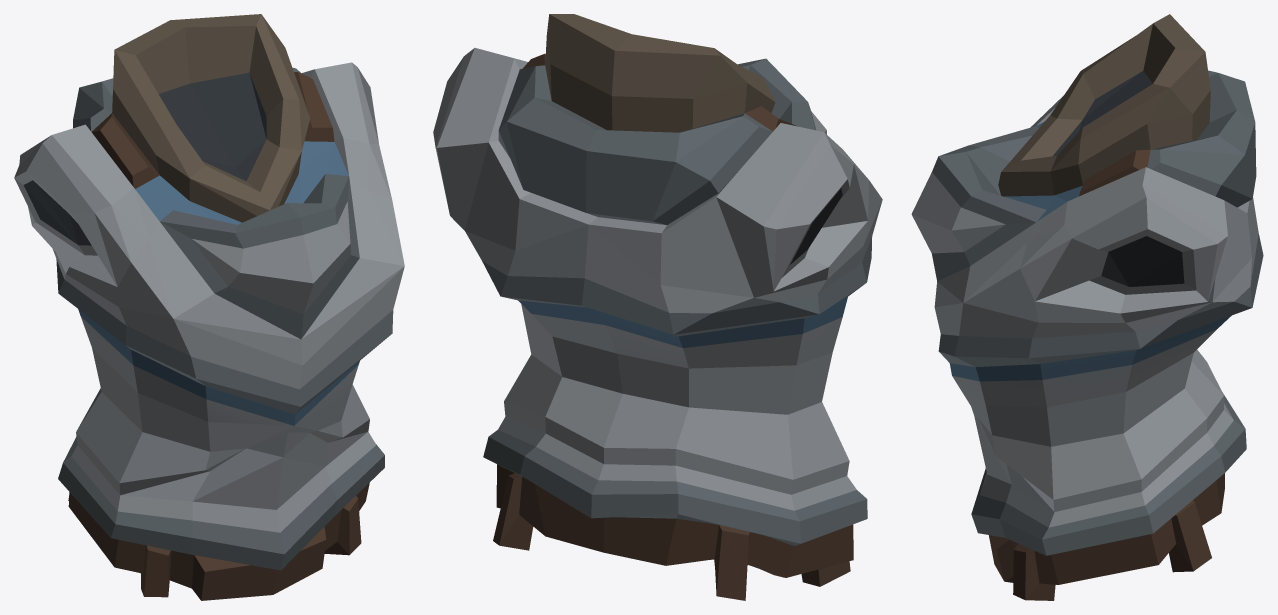
The model's file is Chr_Torso_Female_25_Static.fbx.
3 views of the same model, side by side, from view 1: azimuth 30°, elevation 25°; view 2: azimuth 150°, elevation 25°; view 3: azimuth 270°, elevation 25° (orthographic). The views are drawn at different scales.
Parts seen in each view (by area): view 1: Chr_Torso_Female_25_Static; view 2: Chr_Torso_Female_25_Static; view 3: Chr_Torso_Female_25_Static.
Boxes of the visible parts, box(x1,y1,x2,y2) form: Chr_Torso_Female_25_Static: box(14, 14, 404, 600); Chr_Torso_Female_25_Static: box(433, 14, 882, 600); Chr_Torso_Female_25_Static: box(911, 14, 1263, 600).
Size of the model in its own units: 0.5172 by 0.722 by 0.4463.
